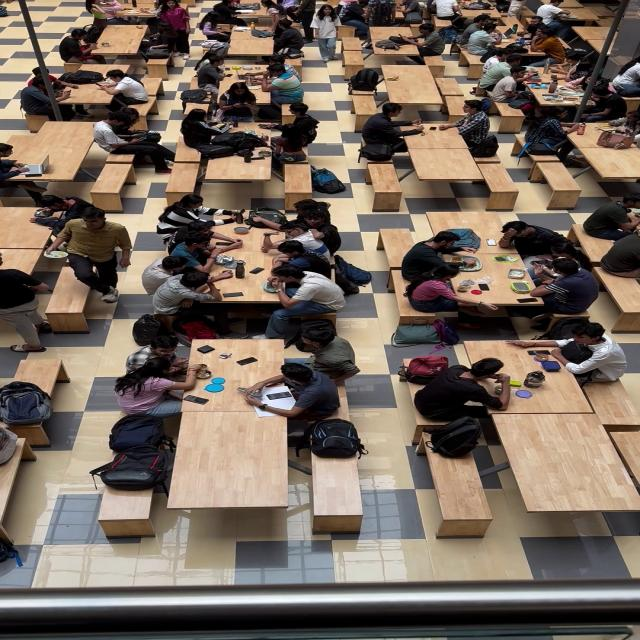Occupied: (166, 406, 290, 511), (460, 345, 596, 414), (198, 228, 305, 307), (48, 209, 134, 299), (180, 337, 288, 406), (0, 124, 102, 192), (508, 325, 628, 381), (238, 362, 339, 424), (413, 361, 510, 422), (113, 358, 200, 418), (260, 332, 359, 384), (91, 104, 174, 162), (57, 70, 156, 117), (265, 268, 346, 321), (408, 264, 492, 313), (399, 232, 478, 284), (528, 258, 599, 313), (126, 327, 198, 381), (155, 195, 241, 238), (93, 447, 173, 491), (19, 68, 84, 122), (150, 270, 227, 315), (521, 108, 584, 162), (178, 109, 246, 159), (361, 102, 425, 153), (82, 26, 150, 73), (499, 220, 576, 260), (256, 222, 330, 263), (522, 76, 586, 122), (167, 232, 240, 270), (265, 102, 321, 150), (439, 100, 492, 150), (305, 418, 368, 459), (422, 416, 483, 458), (108, 415, 173, 453), (583, 198, 639, 240), (0, 381, 52, 425), (31, 196, 96, 230), (0, 211, 53, 250), (599, 230, 640, 279), (392, 23, 446, 56), (548, 52, 595, 88), (218, 82, 258, 122), (524, 30, 568, 66), (488, 69, 533, 104), (59, 29, 104, 64), (268, 128, 314, 162), (539, 5, 610, 27), (138, 21, 178, 60), (194, 56, 229, 100), (268, 21, 307, 57), (402, 356, 450, 385), (86, 0, 121, 39), (464, 22, 504, 56), (283, 252, 333, 278), (230, 16, 278, 42), (609, 57, 640, 96), (258, 62, 301, 90), (160, 1, 190, 40), (602, 110, 640, 140), (546, 316, 592, 340), (200, 12, 234, 44), (392, 323, 440, 345), (214, 132, 266, 152), (512, 16, 549, 44), (310, 167, 345, 194), (348, 68, 382, 94), (455, 4, 504, 22), (246, 208, 288, 229), (338, 0, 369, 28), (526, 137, 570, 156), (276, 0, 310, 24), (391, 0, 421, 27), (139, 0, 174, 23), (111, 8, 158, 25), (442, 228, 480, 249), (502, 0, 543, 19), (467, 134, 499, 158), (374, 36, 419, 53), (358, 142, 396, 162), (366, 0, 395, 26), (428, 0, 460, 21), (196, 144, 237, 160), (261, 0, 288, 23), (213, 0, 242, 21), (298, 118, 319, 146), (200, 41, 229, 60), (33, 214, 66, 230), (256, 103, 282, 122), (180, 89, 212, 104), (201, 120, 231, 135), (130, 131, 162, 144), (438, 26, 460, 44), (504, 43, 530, 56), (123, 72, 145, 86), (281, 48, 305, 59), (466, 1, 491, 10), (495, 0, 511, 13), (82, 24, 98, 36)
Unoccupied: (492, 412, 640, 514), (422, 460, 494, 538), (308, 451, 363, 534), (0, 257, 56, 319), (96, 482, 156, 539), (44, 262, 100, 320), (408, 148, 486, 188), (582, 377, 640, 428), (575, 143, 640, 188), (424, 211, 514, 241), (605, 429, 640, 496), (473, 161, 521, 209), (88, 160, 136, 208), (533, 162, 585, 206), (201, 153, 274, 183), (10, 359, 67, 397), (383, 84, 445, 117), (578, 85, 628, 124), (366, 163, 403, 210), (224, 26, 275, 60), (163, 157, 202, 195), (283, 164, 313, 206), (571, 28, 610, 58), (335, 256, 372, 286), (379, 228, 415, 258), (350, 91, 381, 123), (436, 79, 466, 102), (341, 50, 365, 78), (60, 70, 104, 85), (440, 92, 467, 116), (181, 99, 213, 119), (507, 92, 534, 110), (144, 78, 165, 97), (374, 39, 402, 50), (251, 29, 274, 38)
